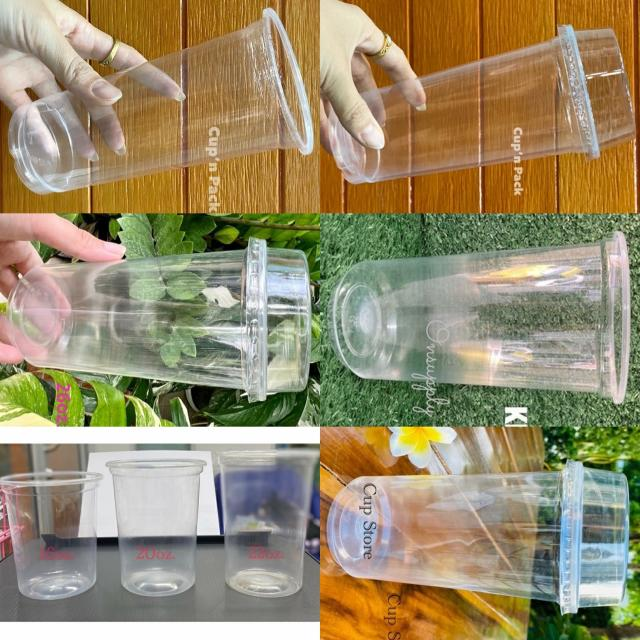Single-Use-Plastic: (9, 9, 314, 194), (328, 232, 630, 403), (8, 238, 311, 401), (329, 26, 634, 183), (327, 461, 629, 611), (219, 450, 318, 598), (108, 459, 206, 596), (0, 471, 101, 599)
